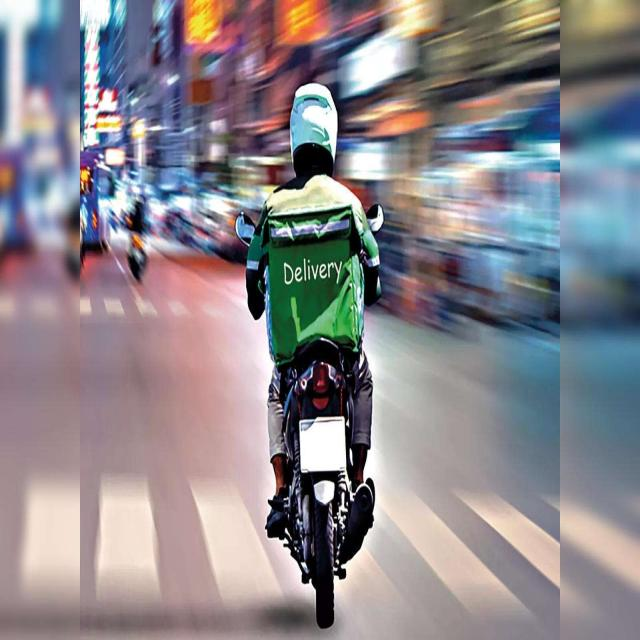motorcycle: (238, 84, 382, 629)
